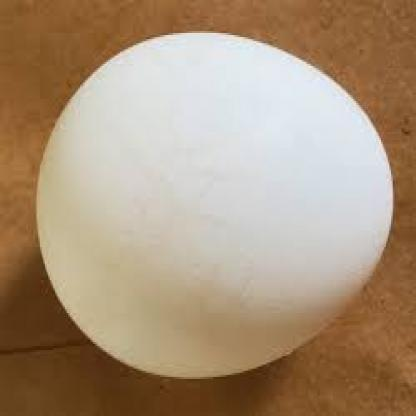egg: (34, 29, 398, 384)
